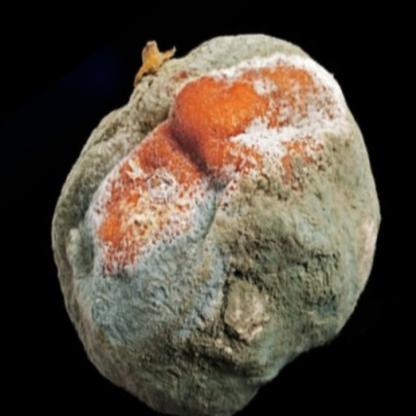rotten: (50, 35, 380, 416)
